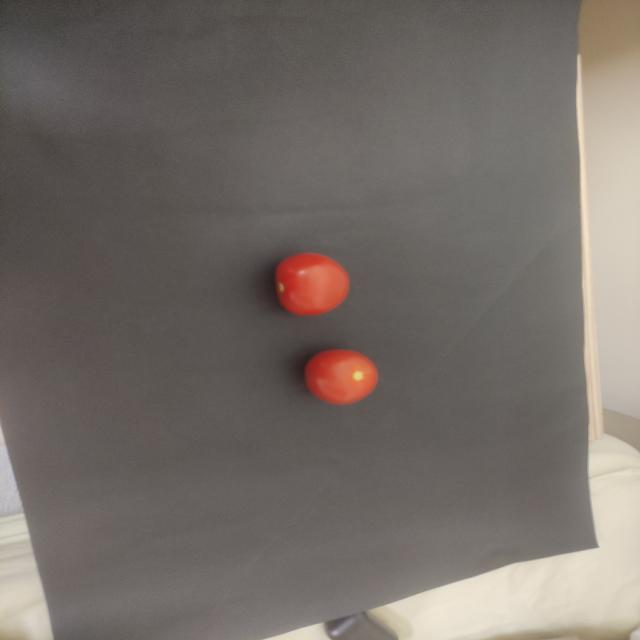kirmizi: (249, 246, 361, 328), (280, 338, 396, 412)
